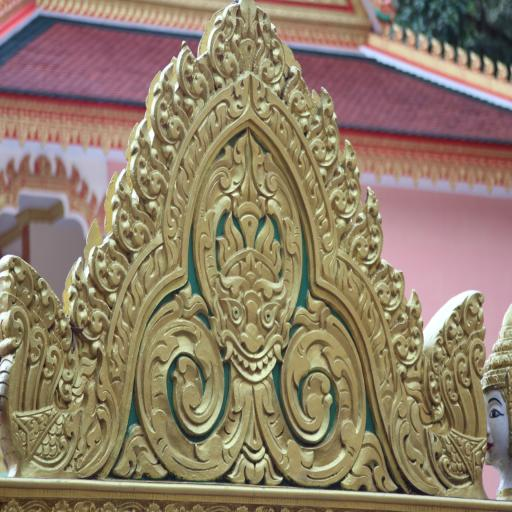la: (3, 260, 110, 487), (394, 290, 490, 495), (129, 305, 228, 489), (283, 318, 366, 481), (207, 2, 283, 79), (229, 374, 282, 483), (154, 52, 200, 146), (341, 431, 404, 494), (108, 277, 140, 388), (129, 120, 167, 204), (68, 258, 106, 339), (111, 427, 169, 479), (310, 78, 342, 165), (330, 129, 358, 222), (350, 178, 380, 263), (110, 179, 148, 245), (319, 248, 361, 302), (132, 237, 168, 295), (357, 284, 383, 357), (396, 287, 422, 359), (87, 232, 121, 287), (284, 53, 312, 119), (374, 250, 401, 308), (164, 189, 184, 266), (377, 350, 395, 430), (250, 67, 272, 124), (225, 72, 248, 124), (313, 201, 336, 250), (273, 98, 292, 149), (177, 144, 193, 193), (306, 162, 322, 211), (292, 128, 308, 175), (209, 92, 226, 135), (192, 120, 206, 163)
